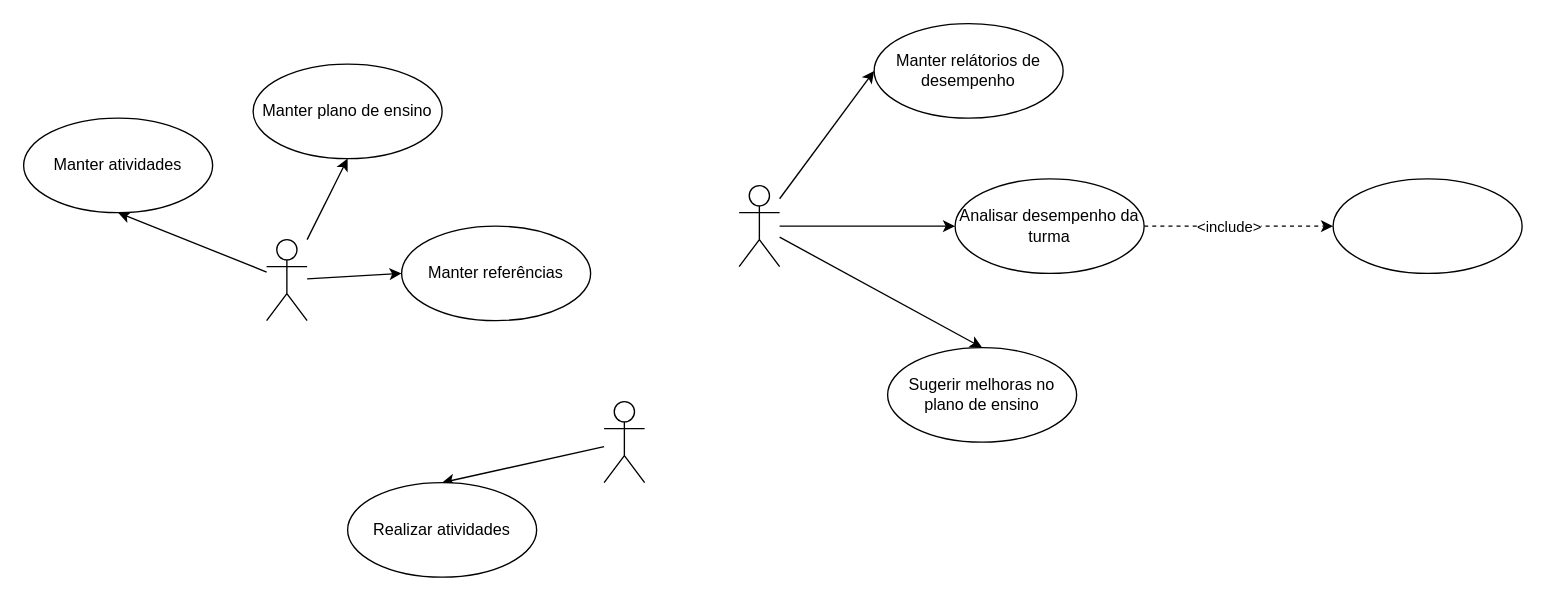
Image size: 1546x601. Some labels were removed from this diagram. Here are the shapes that lost their labels. From the top down, the centre of each, then its label:
At [759,225]: "Sistema".
At [1427,225]: "Sugerir conteudo complementar".
At [286,279]: "Professor".
At [624,441]: "Aluno".
